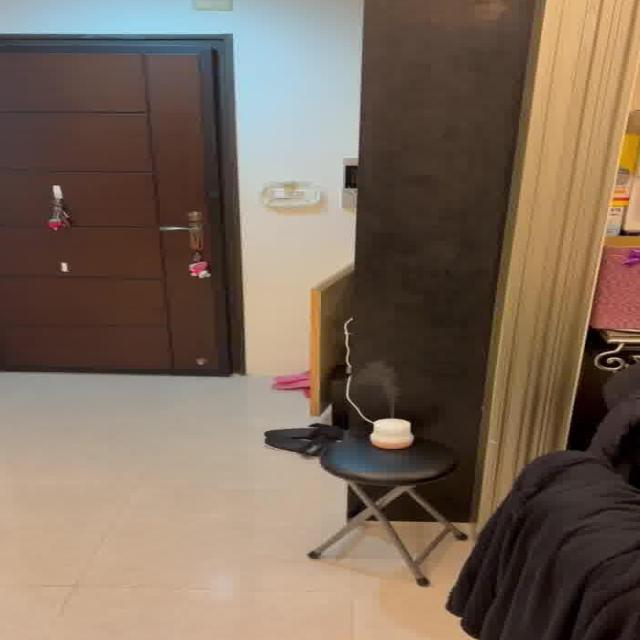fire: (358, 360, 412, 405)
